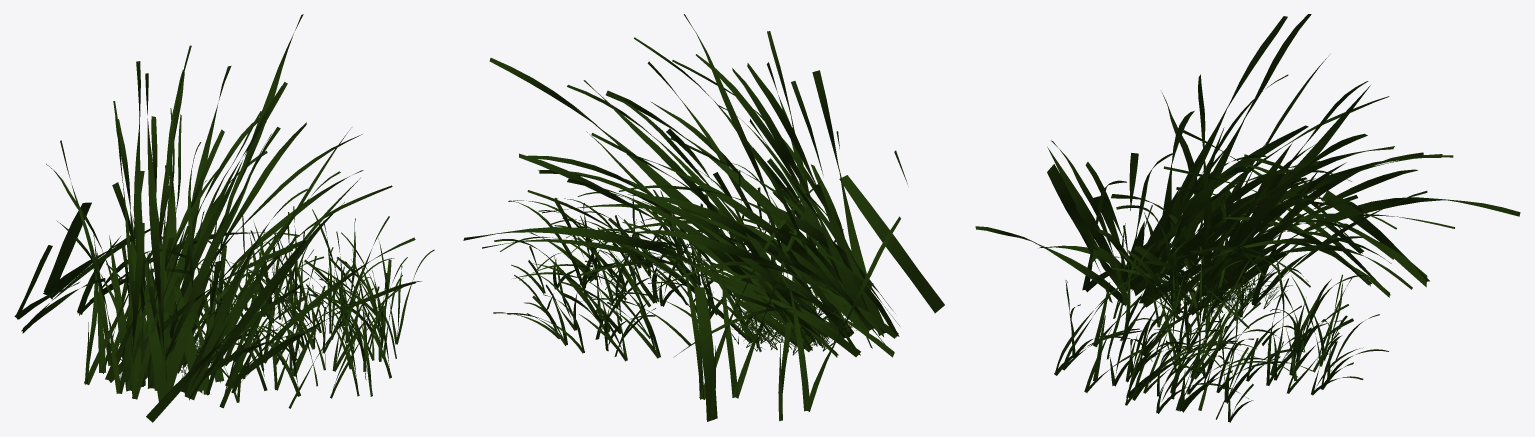
File: Grass_MDL.fbx
3 renders of one model, left to right at view 1: azimuth 30°, elevation 25°; view 2: azimuth 150°, elevation 25°; view 3: azimuth 270°, elevation 25°, orthographic. The views are drawn at different scales.
Visible parts, largest first — view 1: grassClump17Main; view 2: grassClump17Main; view 3: grassClump17Main.
Part boxes in pixels (x1,y1,x2,y2): grassClump17Main: (14,14,434,422); grassClump17Main: (463,14,944,421); grassClump17Main: (975,14,1520,422).
Size of the model in its own units: 329 by 252 by 412.
